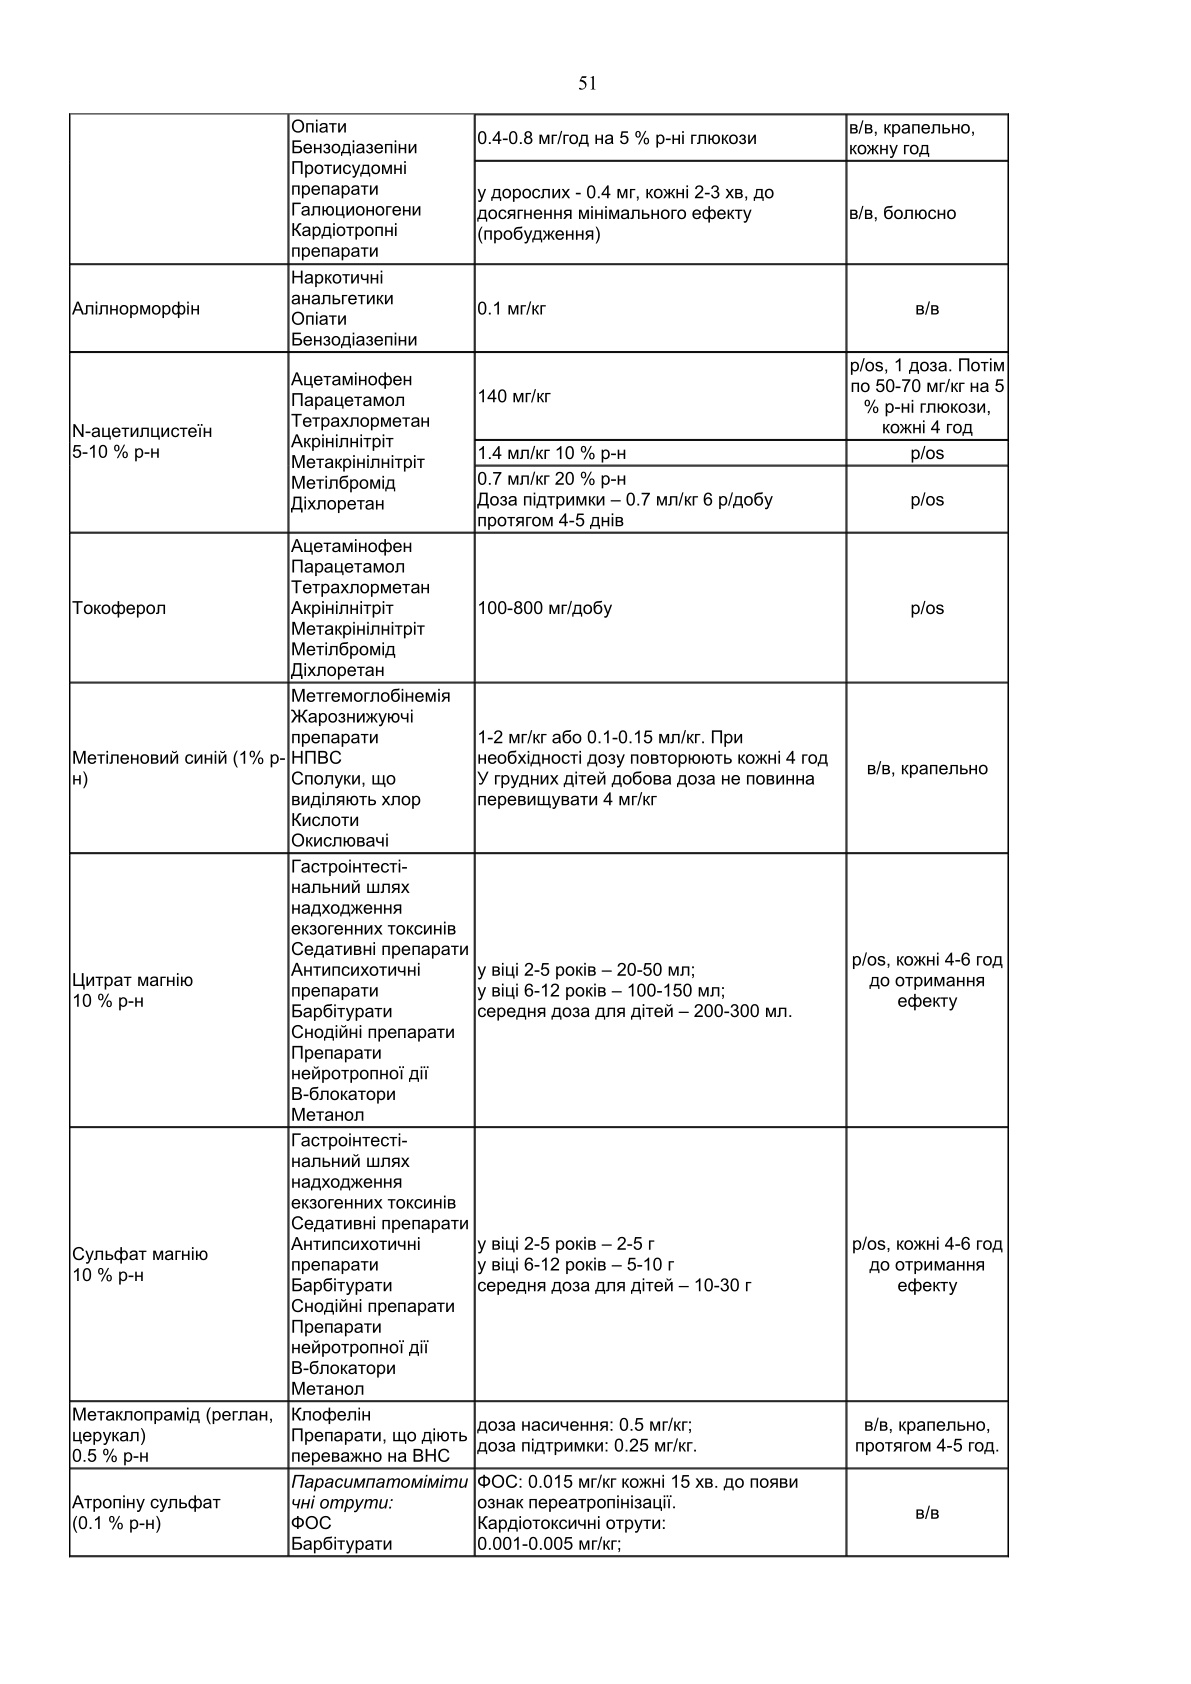merged_cells: (68, 111, 1009, 1558)
